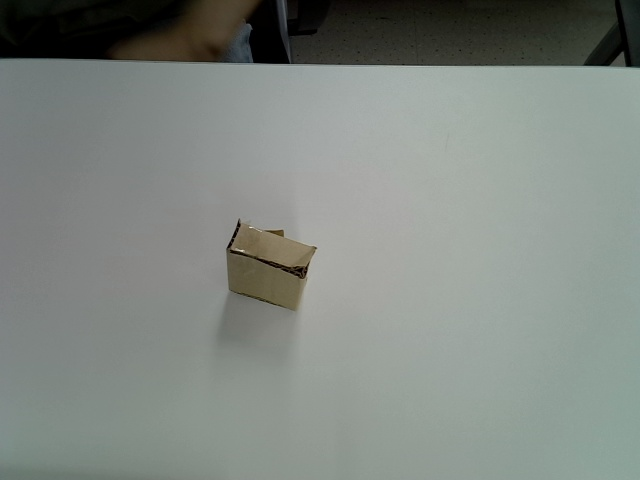defect: (224, 218, 319, 312)
